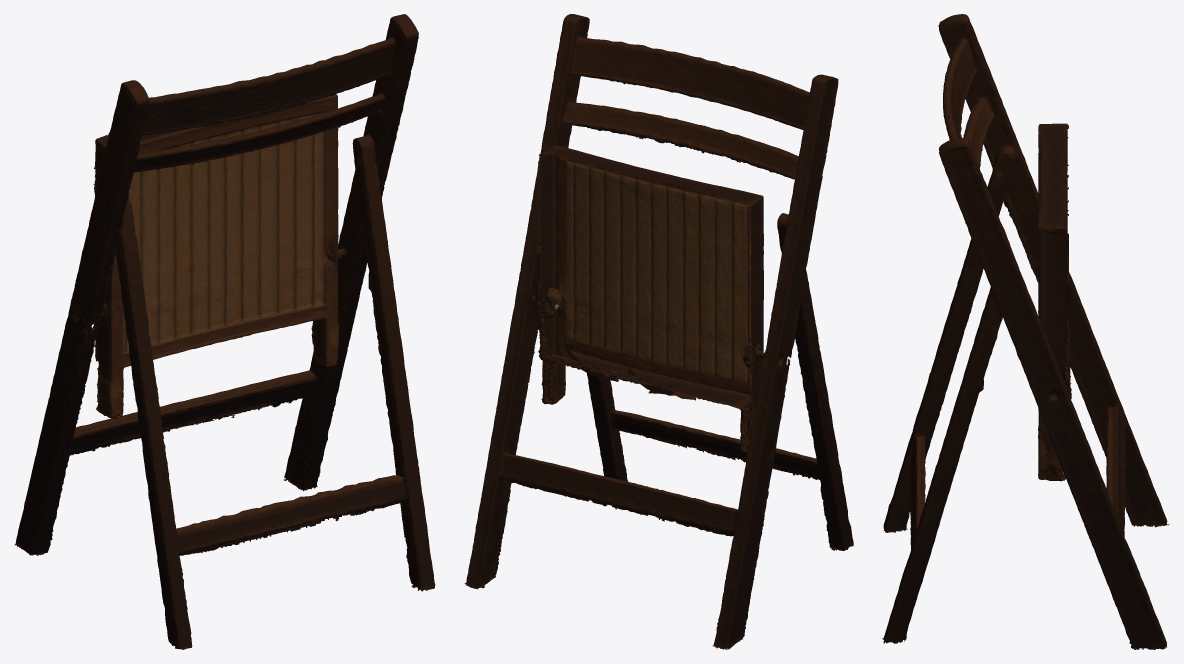
Rendered from foldchair_102255.glb.
3 views of the same model, side by side, from view 1: azimuth 30°, elevation 25°; view 2: azimuth 150°, elevation 25°; view 3: azimuth 270°, elevation 25° (orthographic). The views are drawn at different scales.
Parts seen in each view (by area): view 1: foldchair_102255_start_0, foldchair_102255_start_1; view 2: foldchair_102255_start_0, foldchair_102255_start_1; view 3: foldchair_102255_start_0, foldchair_102255_start_1.
Boxes of the visible parts, <box> form: foldchair_102255_start_0: <box>14,14,435,649</box>; foldchair_102255_start_1: <box>93,94,338,419</box>; foldchair_102255_start_0: <box>465,14,853,649</box>; foldchair_102255_start_1: <box>534,145,763,453</box>; foldchair_102255_start_0: <box>882,14,1169,649</box>; foldchair_102255_start_1: <box>1038,123,1071,481</box>.
Bounding box in the file's own units: 0.904 × 1.62 × 0.8321.
